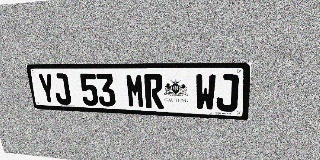3: (96, 74, 116, 107)
5: (79, 73, 99, 106)
J: (216, 74, 239, 112), (52, 73, 72, 105)
M: (125, 74, 145, 108)
R: (144, 74, 164, 109)
W: (195, 74, 216, 111)
Y: (37, 73, 57, 104)
